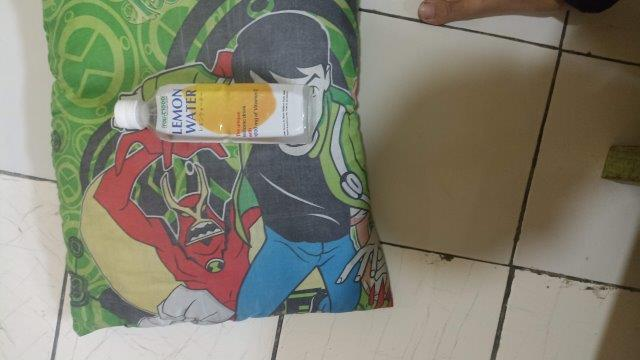botolplastik: (114, 81, 314, 146)
